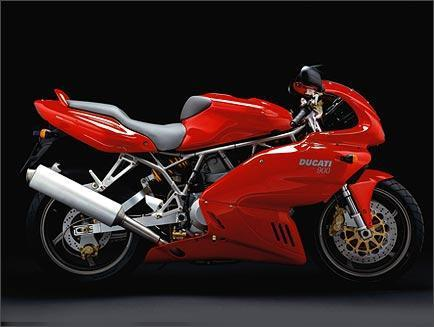motorcycle: (25, 58, 434, 294)
